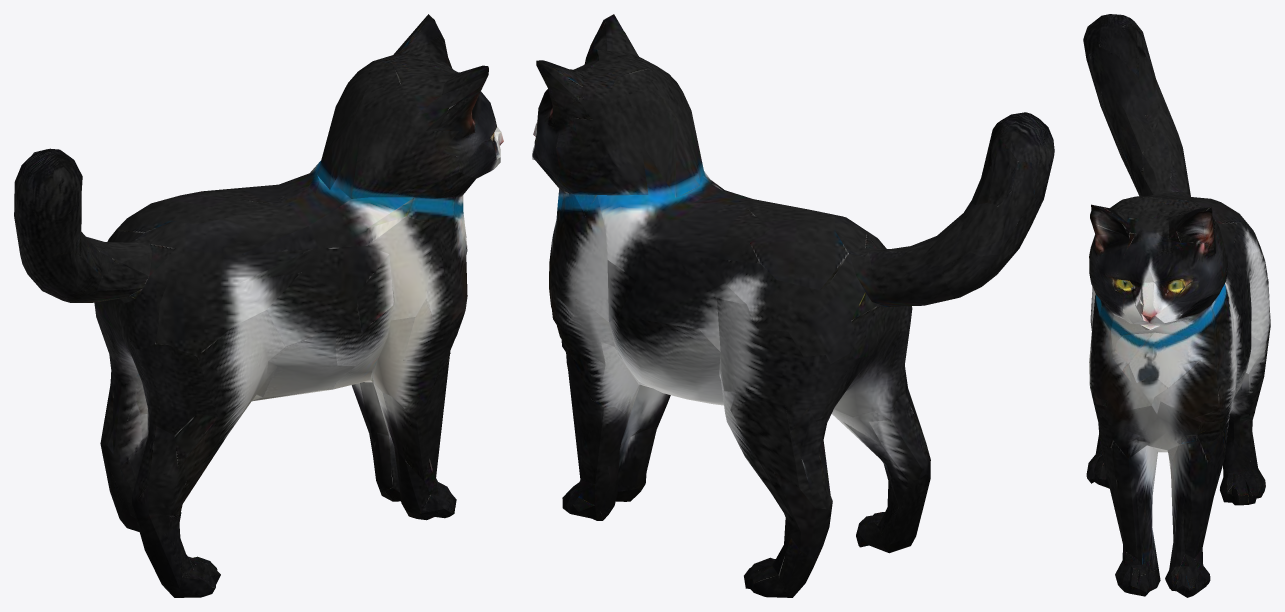
The model's file is DIPLOMOG-lo.glb.
The picture shows the model from 3 angles, left to right: view 1: azimuth 30°, elevation 25°; view 2: azimuth 150°, elevation 25°; view 3: azimuth 270°, elevation 25°; orthographic projection. The views are drawn at different scales.
Visible parts, largest first — view 1: output_unwrapped; view 2: output_unwrapped; view 3: output_unwrapped.
Part boxes in pixels (bbox=[...]): output_unwrapped: bbox=[14, 14, 503, 597]; output_unwrapped: bbox=[532, 14, 1054, 597]; output_unwrapped: bbox=[1083, 14, 1270, 597].
Size of the model in its own units: 1.11 by 1 by 0.418.
1 material, 1 textured.
